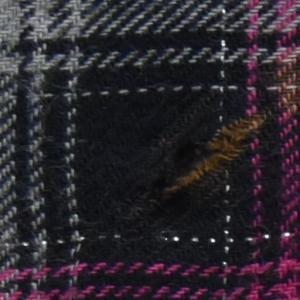Damage: (123, 86, 277, 242)
Oil Stain: (161, 55, 300, 200)
